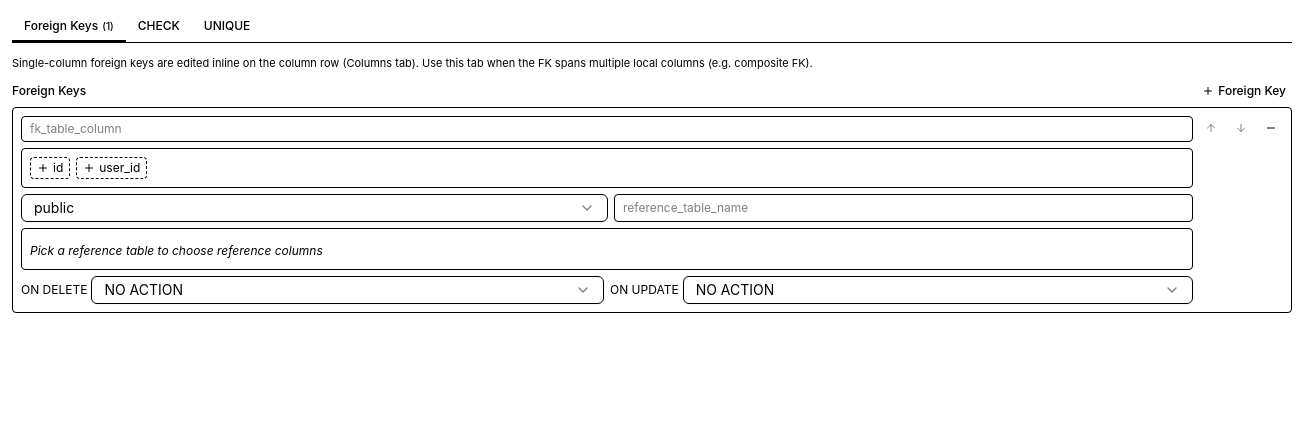
Test: ForeignKeysTabBody › FK ON DELETE / ON UPDATE dropdowns expose 5 PG-canonical options
Click the dropdown named "Foreign key on delete". click: click(144, 290)
box: [91,276,604,304]
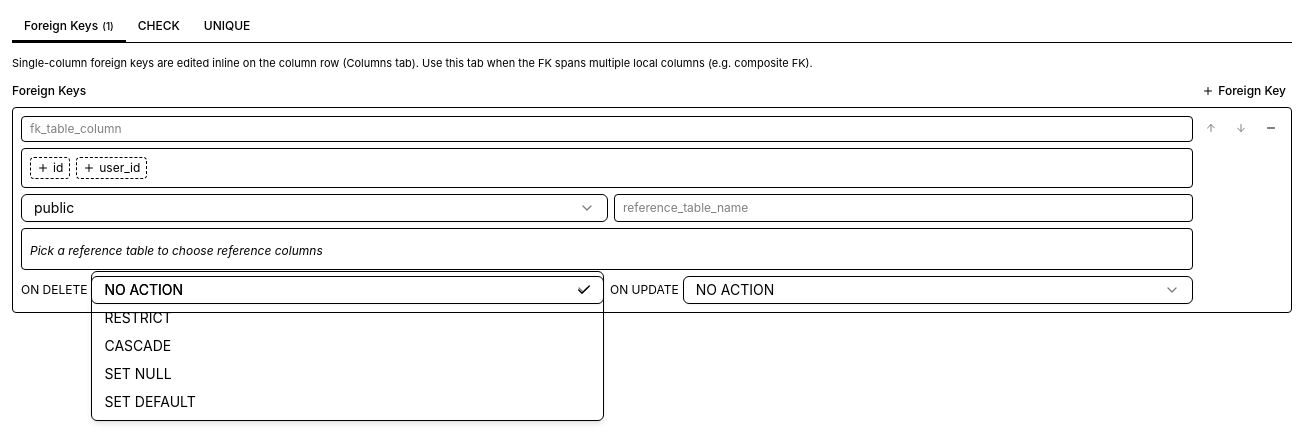
Expected: the option "NO ACTION" is shown, [96,276,599,304]
Expected: the option "RESTRICT" is shown, [104,309,172,326]
Expected: the option "CASCADE" is shown, [104,337,171,354]
